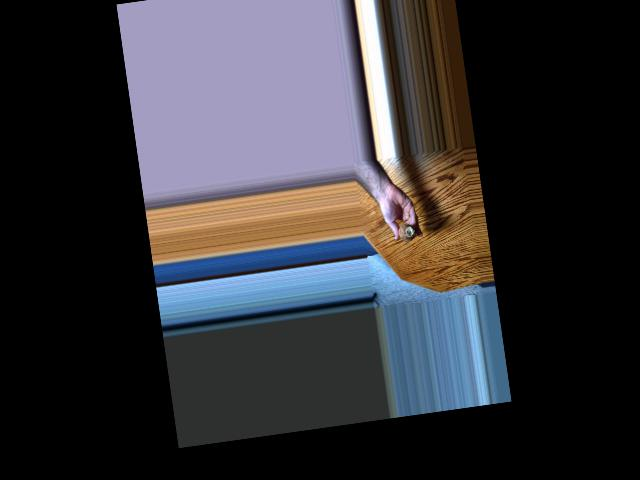sweet_potato: (395, 225, 416, 243)
